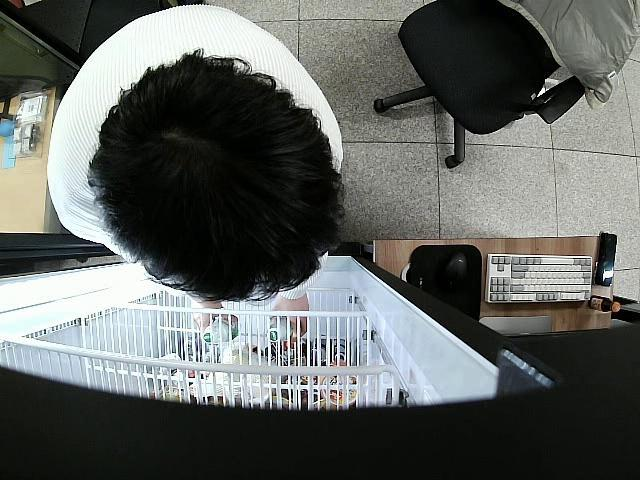18_trevi: (204, 314, 242, 344), (270, 317, 293, 343)
